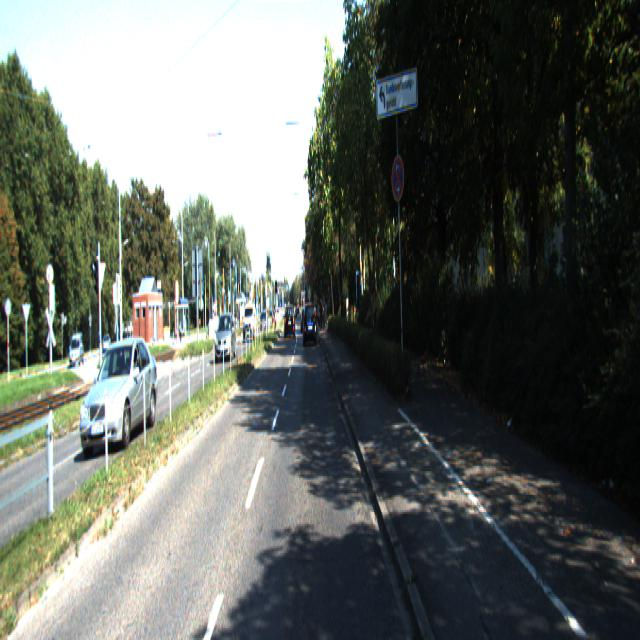Car: (82, 334, 158, 458), (215, 312, 236, 364), (304, 300, 318, 346), (285, 306, 295, 341)
